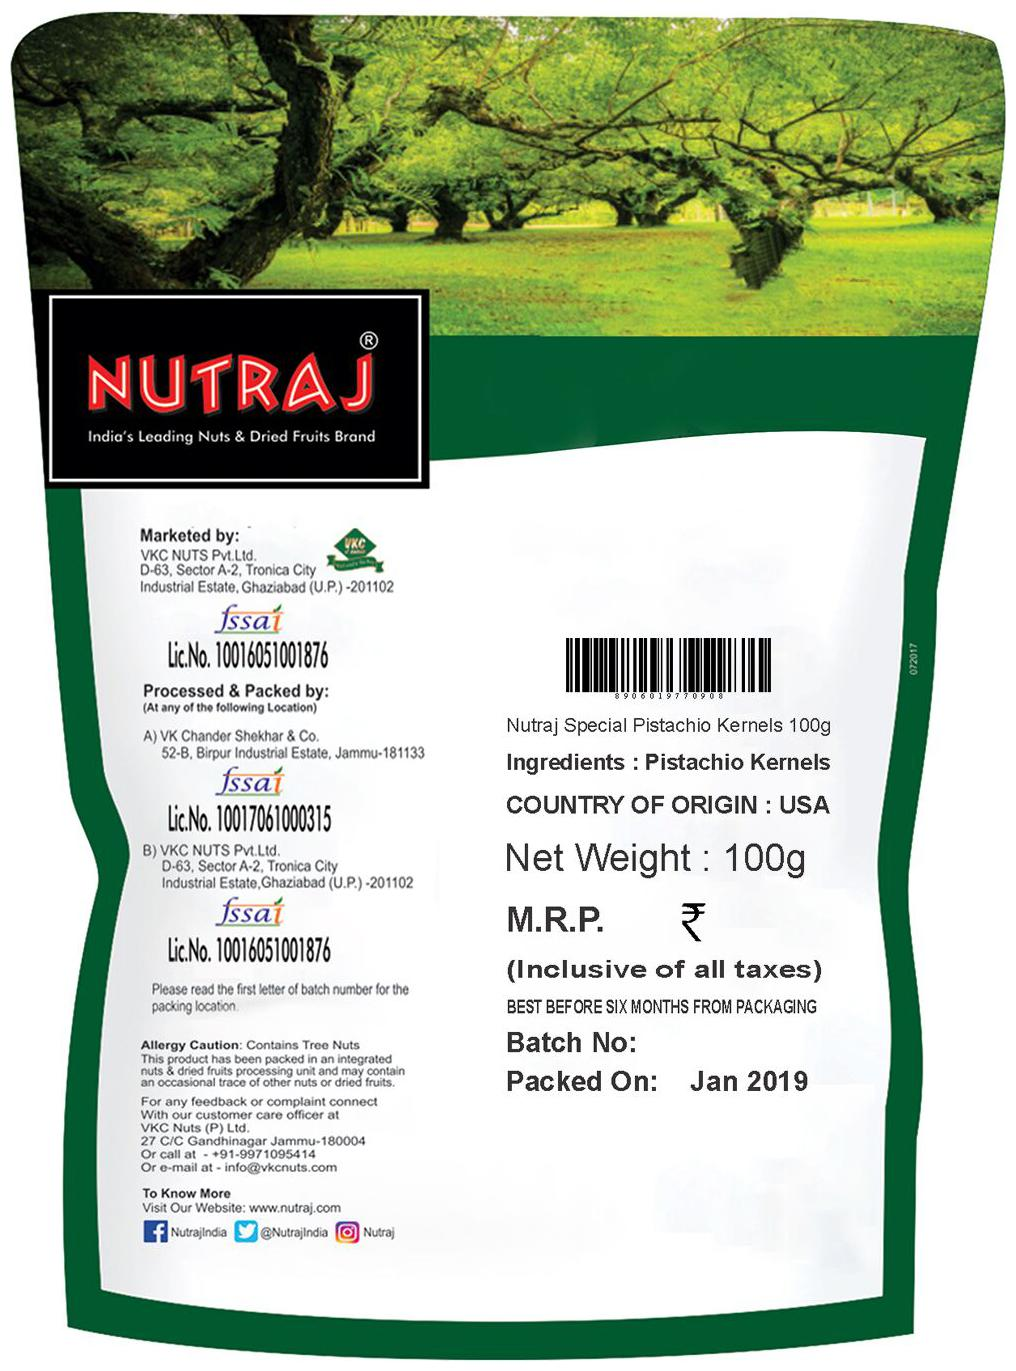fssai: (215, 764, 286, 798), (213, 896, 286, 928), (213, 603, 285, 634)
